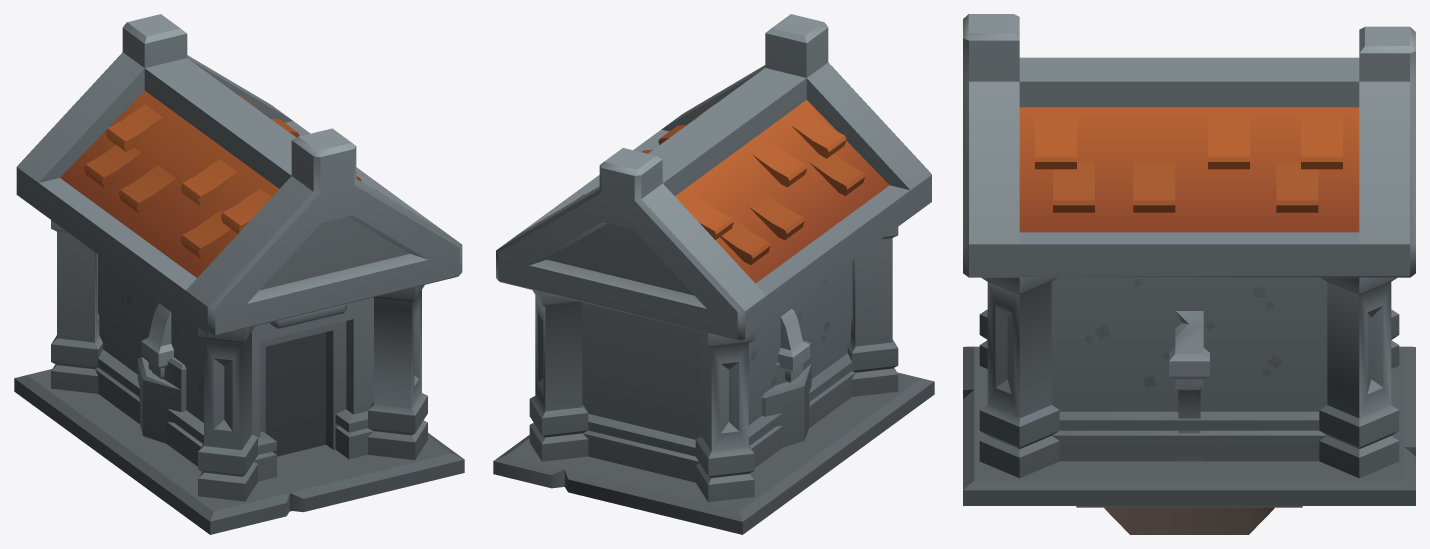
Rendered from kk_props.glb.
3 renders of one model, left to right at view 1: azimuth 30°, elevation 25°; view 2: azimuth 150°, elevation 25°; view 3: azimuth 270°, elevation 25°, orthographic. The views are drawn at different scales.
Parts seen in each view (by area): view 1: crypt, Rock_1_J_Color1, arch; view 2: crypt, Rock_1_J_Color1, arch; view 3: crypt, floor_dirt_grave, arch, fence_gate, fence.
Part boxes in pixels (x1,y1,x2,y2): crypt: [14, 14, 464, 534]; Rock_1_J_Color1: [137, 357, 186, 443]; arch: [141, 303, 173, 368]; crypt: [493, 14, 934, 534]; Rock_1_J_Color1: [762, 341, 811, 447]; arch: [778, 309, 810, 371]; crypt: [963, 14, 1415, 505]; floor_dirt_grave: [1076, 506, 1302, 534]; arch: [1169, 311, 1209, 379]; fence_gate: [1175, 379, 1203, 460]; fence: [1175, 379, 1203, 461].
Bounding box in the file's own units: 6 × 9.5 × 8.
